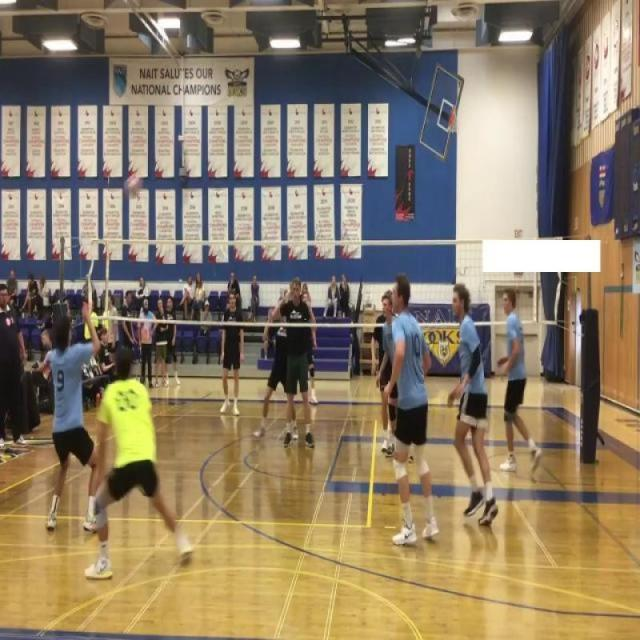volleyball: (123, 172, 142, 200)
